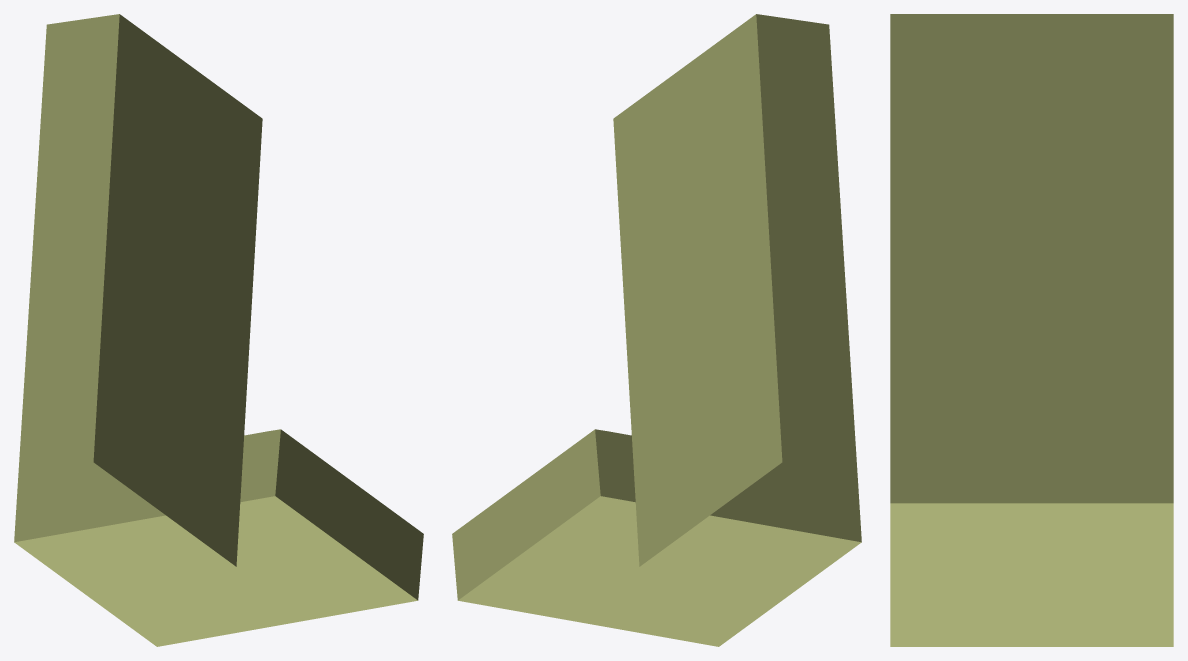
The picture shows the model from 3 angles, left to right: view 1: azimuth 30°, elevation 25°; view 2: azimuth 150°, elevation 25°; view 3: azimuth 270°, elevation 25°; orthographic projection.
Visible parts, largest first — view 1: 0_0_2_0_1_1_1_0_0; view 2: 0_0_2_0_1_1_1_0_0; view 3: 0_0_2_0_1_1_1_0_0.
Boxes of the visible parts, <box> form: 0_0_2_0_1_1_1_0_0: <box>14,14,423,646</box>; 0_0_2_0_1_1_1_0_0: <box>452,14,861,646</box>; 0_0_2_0_1_1_1_0_0: <box>890,14,1173,646</box>.
Bounding box in the file's own units: 9.7 × 18.31 × 9.
